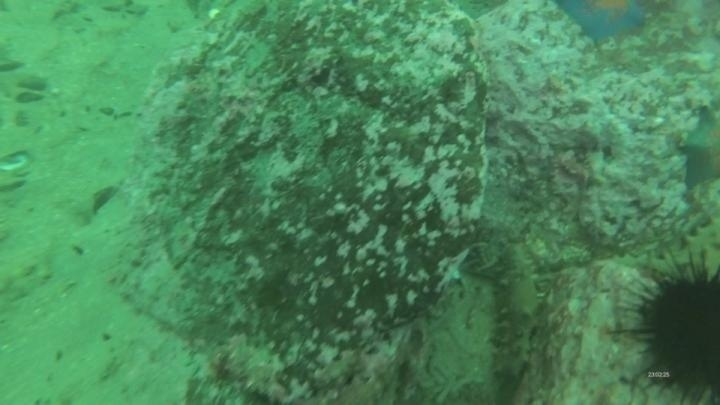echinus: (620, 252, 720, 404)
holothurian: (487, 237, 547, 381), (640, 214, 720, 288), (220, 329, 289, 402)
starfish: (554, 1, 651, 47), (677, 104, 720, 192)
